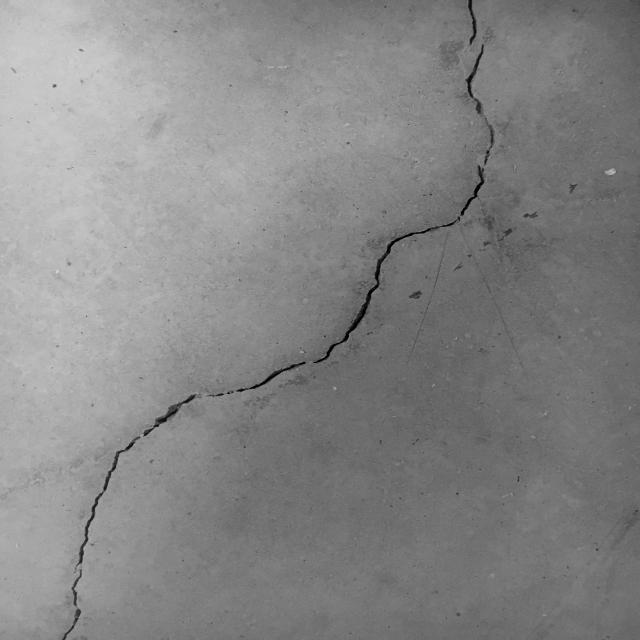SurfaceCrack: (11, 4, 620, 640)
